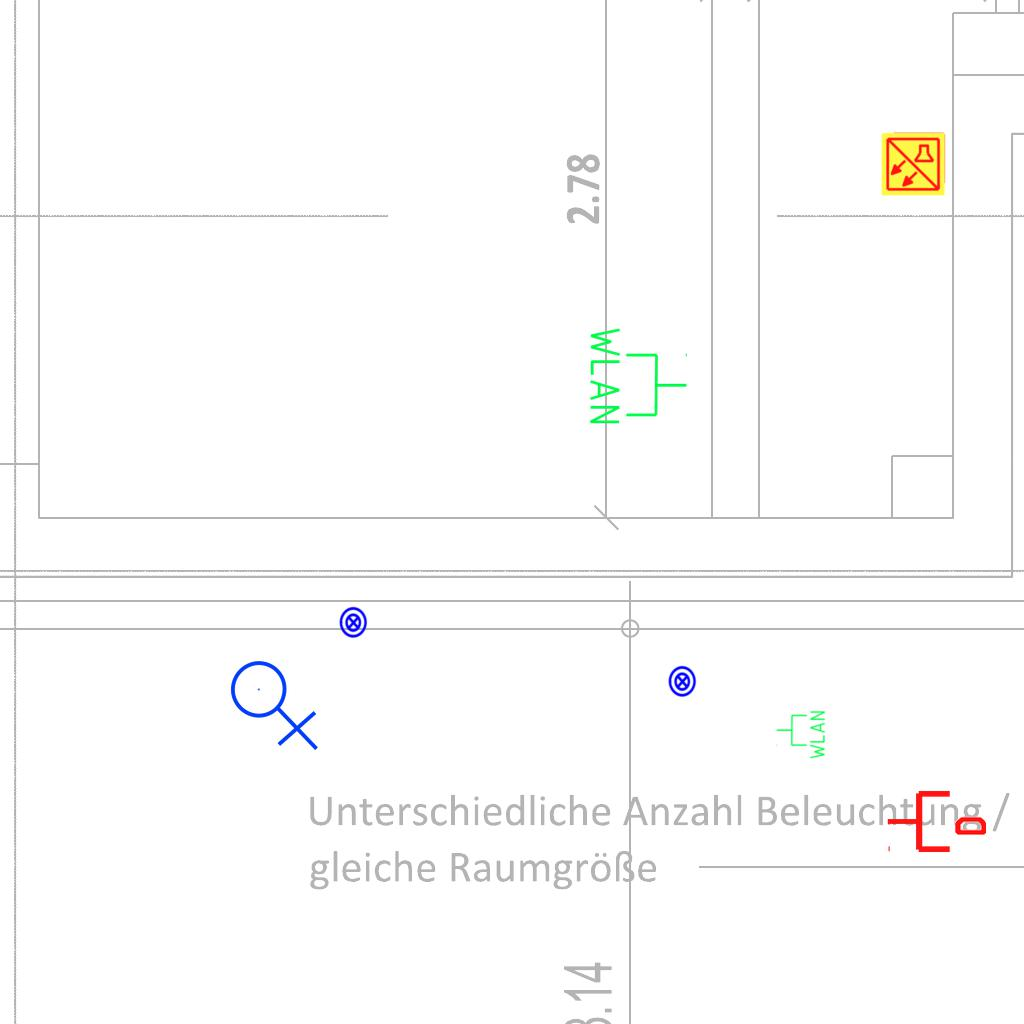Datenanschluss_einfach: (886, 787, 986, 856)
Elektroanschluss_allgemein_230V_Geraeteanschlussdose_230V: (229, 652, 323, 751)
OKW_Multisensormelder_(Kombination_optischer_Rauch-Kahlenmonoxid_Waerme-Melder): (880, 131, 946, 197)
Taster_beleuchtet: (337, 606, 370, 639), (666, 665, 699, 698)
WLAN: (586, 323, 690, 428), (775, 709, 827, 761)
